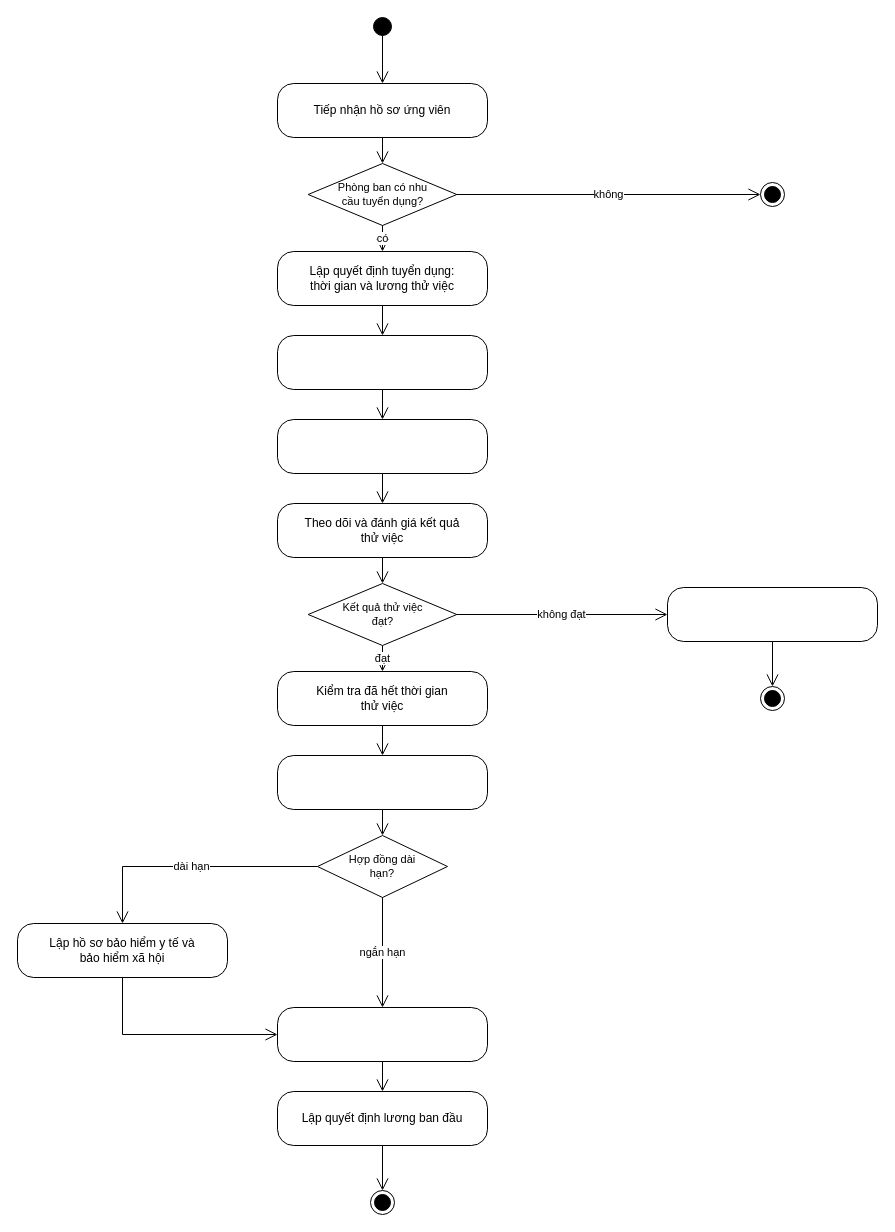
Image size: 895x1232. Some labels were removed from this diagram. The centre of each missing label's shape, as x and y in pixels:
Chấm dứt thử việc trước hạn: (x=772, y=614)
Chọn loại hợp đồng dài hạn hoặc ngắn hạn: (x=382, y=782)
Hai bên ký kết điều khoản: (x=382, y=362)
Ký hợp đồng chính thức, cập nhật trạng thái "Chính thức": (x=382, y=1034)
Tạo hồ sơ nhân viên thử việc: (x=382, y=446)
